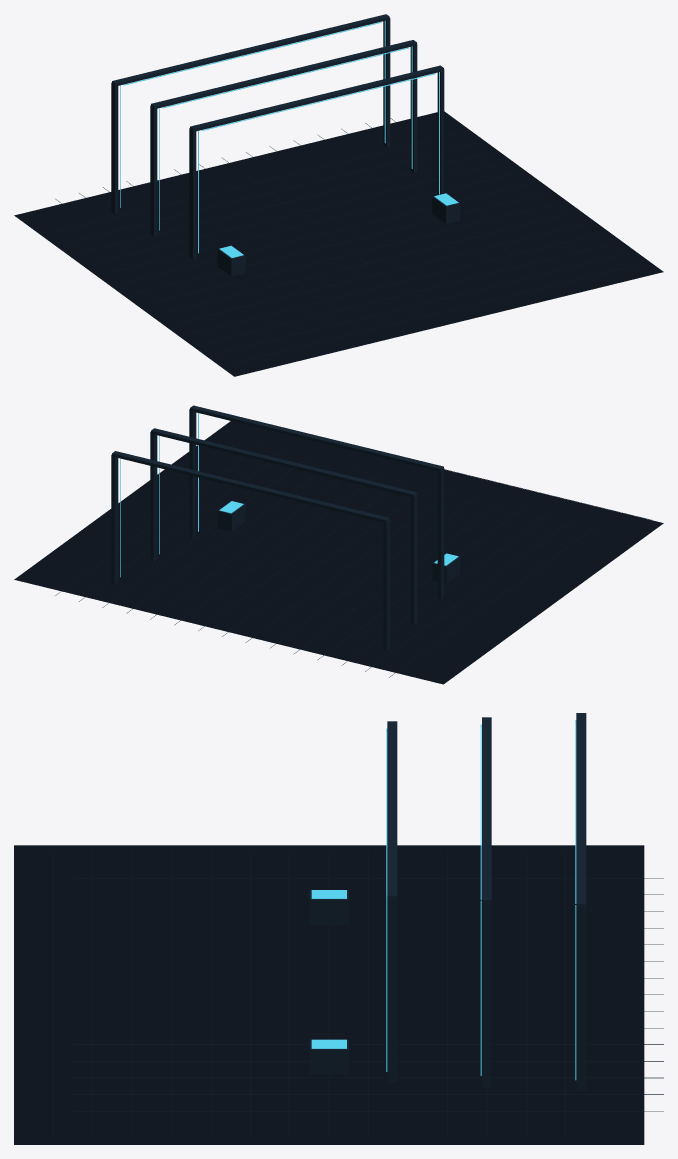
File: 03_research_facility.glb
The picture shows the model from 3 angles, top to bottom: view 1: azimuth 30°, elevation 25°; view 2: azimuth 150°, elevation 25°; view 3: azimuth 270°, elevation 25°; orthographic projection. The views are drawn at different scales.
Parts seen in each view (by area): view 1: 03_RESEARCH_FACILITY; view 2: 03_RESEARCH_FACILITY; view 3: 03_RESEARCH_FACILITY.
Boxes of the visible parts, <box> form: 03_RESEARCH_FACILITY: <box>14,14,663,376</box>; 03_RESEARCH_FACILITY: <box>14,405,663,684</box>; 03_RESEARCH_FACILITY: <box>14,713,663,1144</box>.
Size of the model in its own units: 18 by 5.26 by 16.5.
